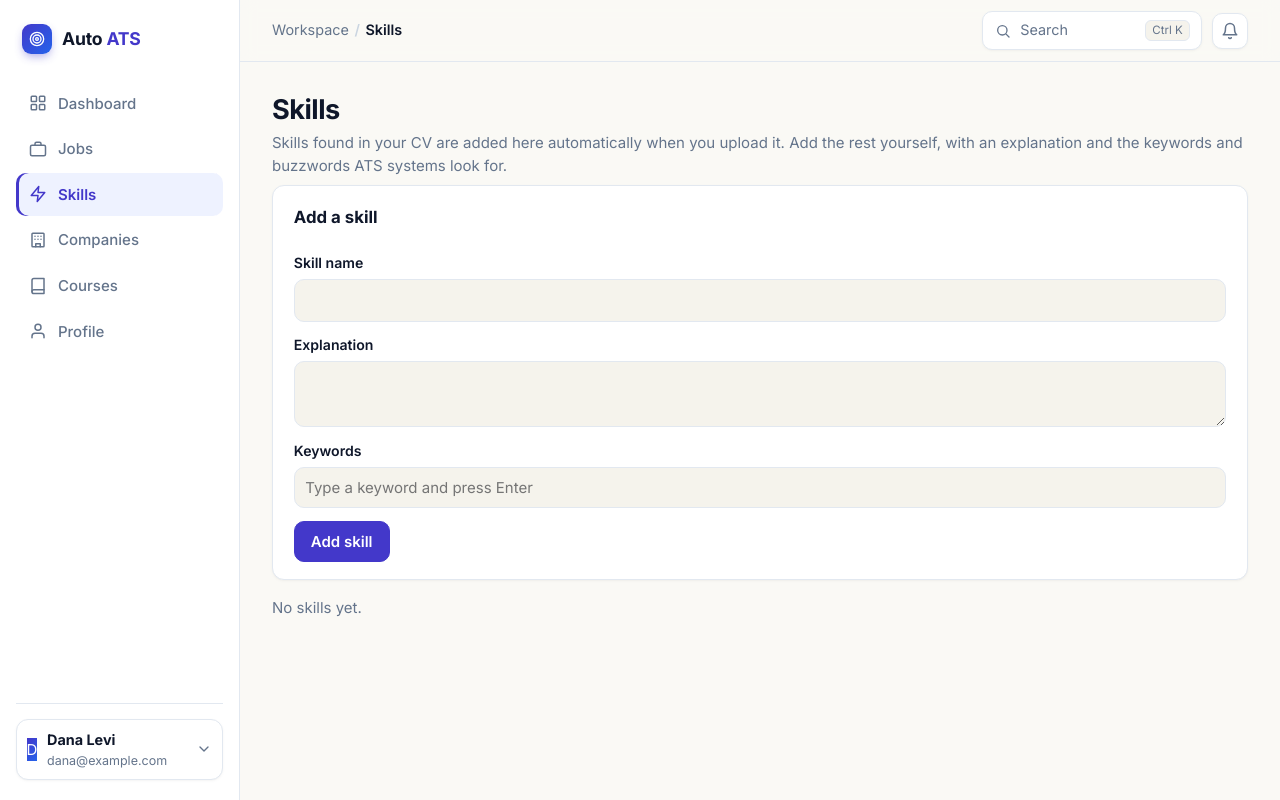
Scenario: SkillsPage › GivenServerError_WhenAdding_ThenMessageIsShown
Expected: the text "No skills yet." is shown, [272, 598, 362, 618]
Type "Docker" into the field labelled "Skill name".
click(760, 300); type("Docker")  # box [294, 279, 1226, 322]
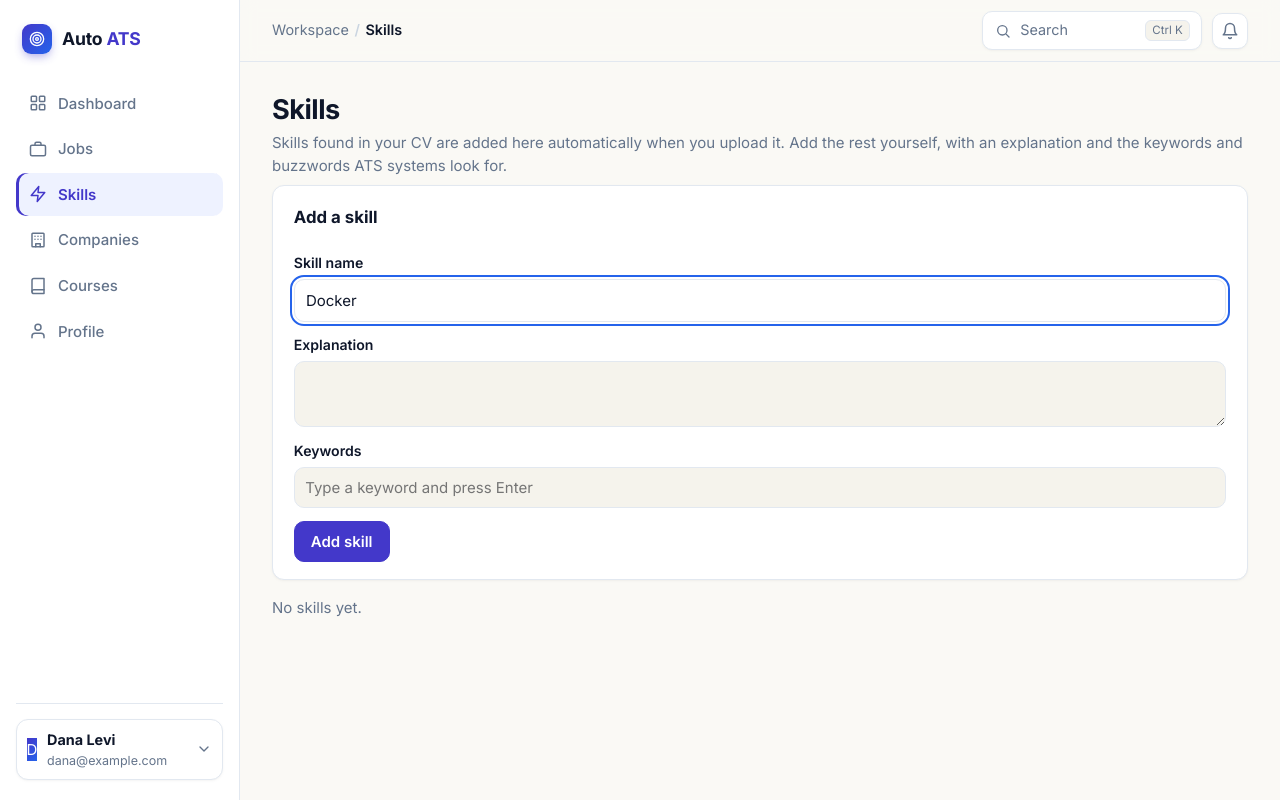
Click the button "Add skill".
click(342, 541)  # box [294, 521, 390, 562]
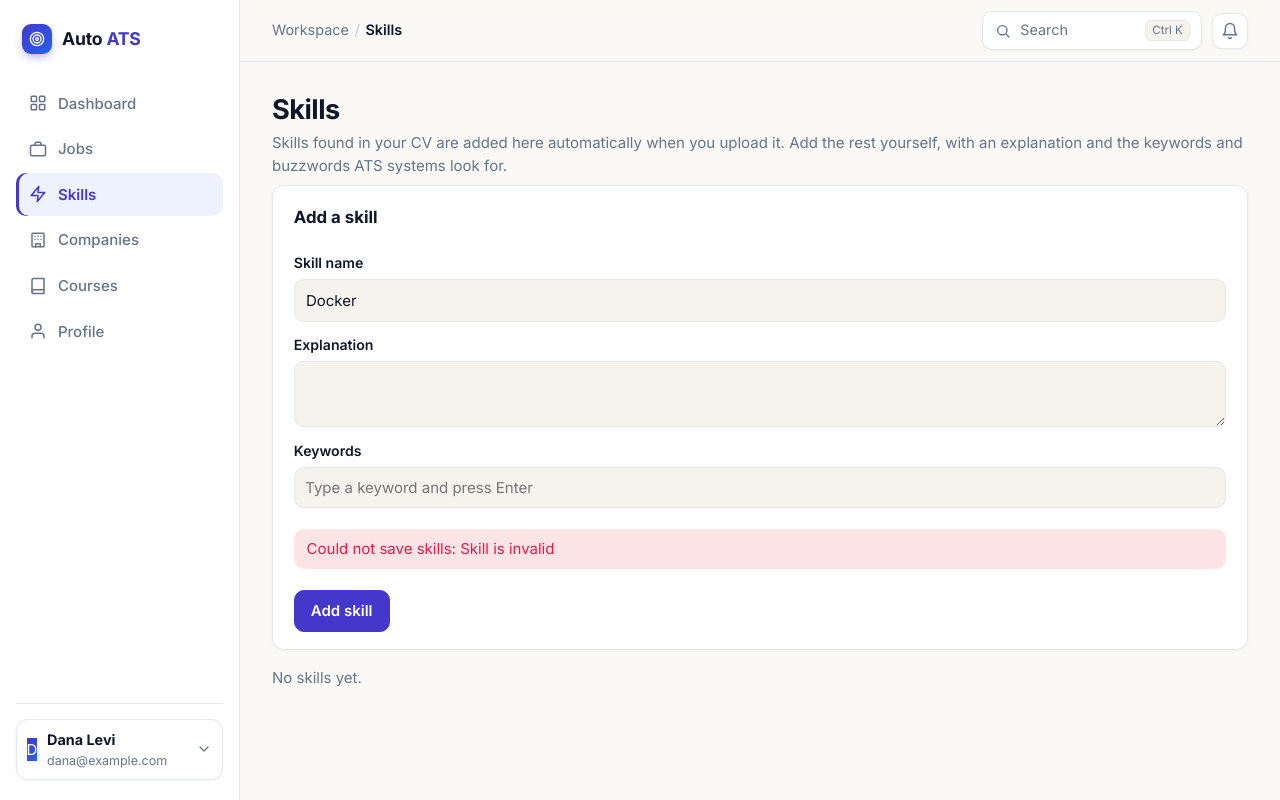
Result: the message shows "Skill is invalid" at [307, 539, 554, 558]
